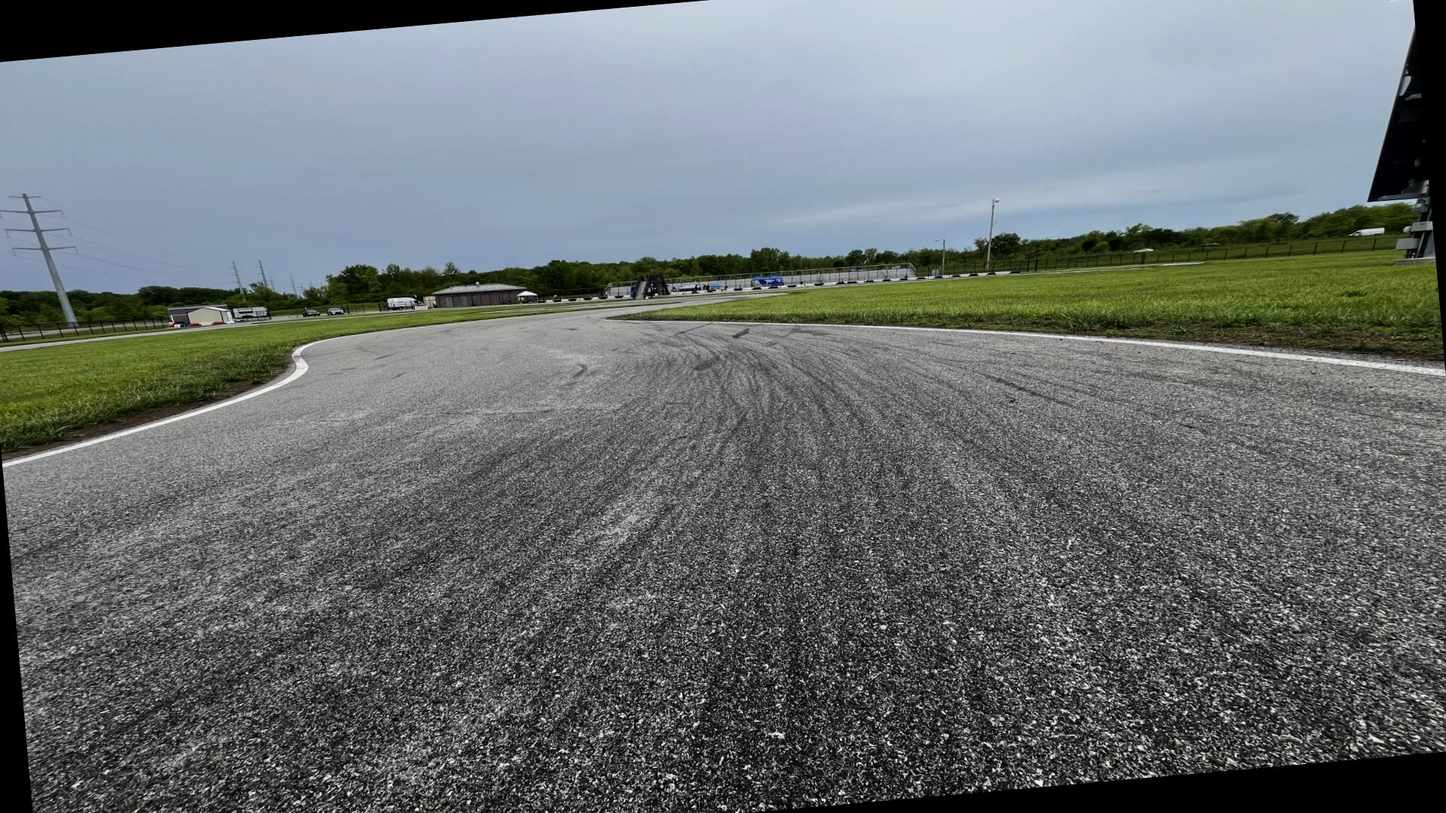white-line: (2, 307, 629, 470), (599, 312, 1445, 379)
